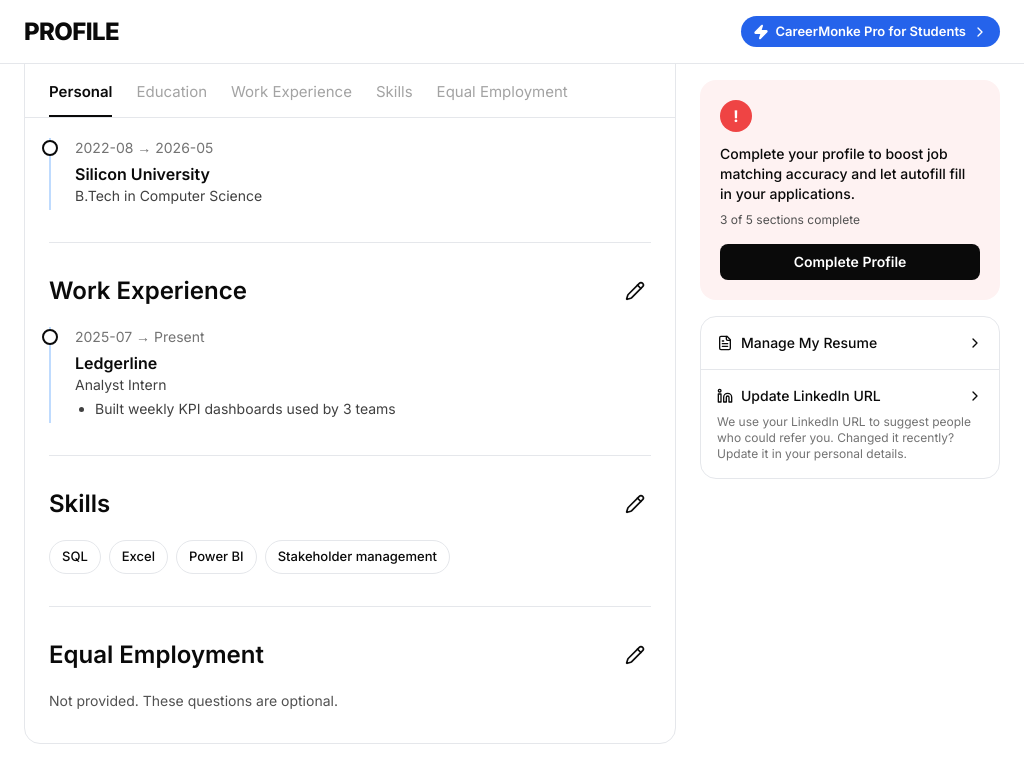
Test: Profile › closing with unsaved changes asks, and Discard throws the draft away
The width and height of the screenshot is (1024, 768).
(page scrolled)
Click the button named "Edit Skills". click: (635, 504)
box: [619,488,651,520]
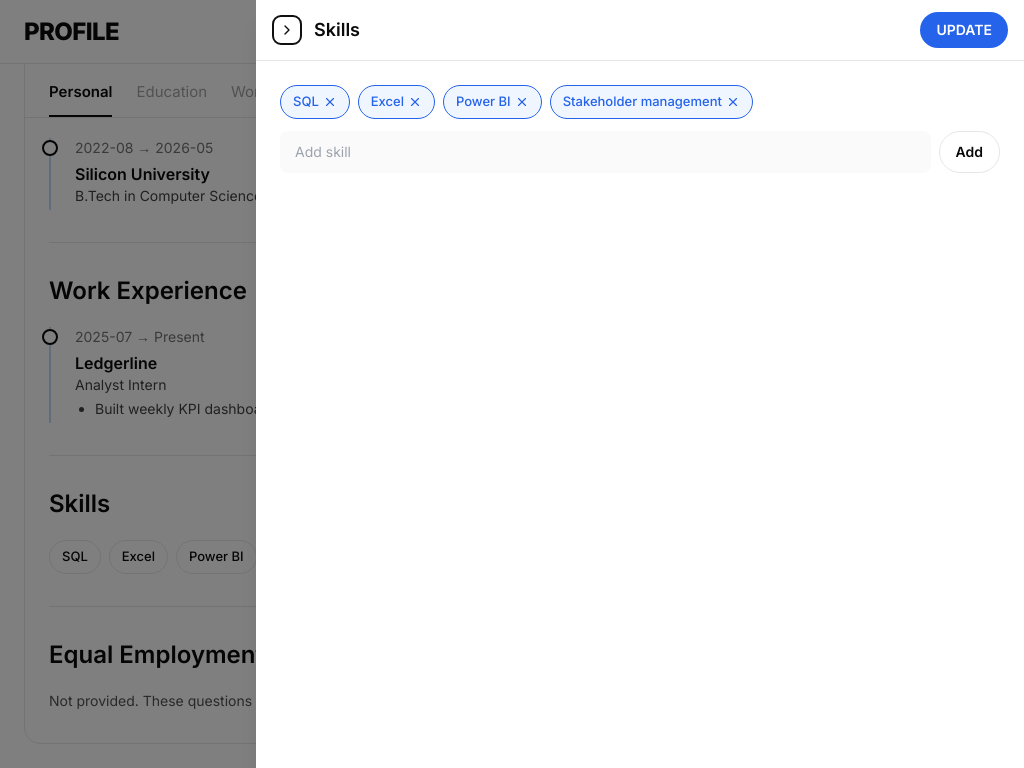
Click the button named "Remove SQL". click: (330, 102)
box: [323,95,337,109]
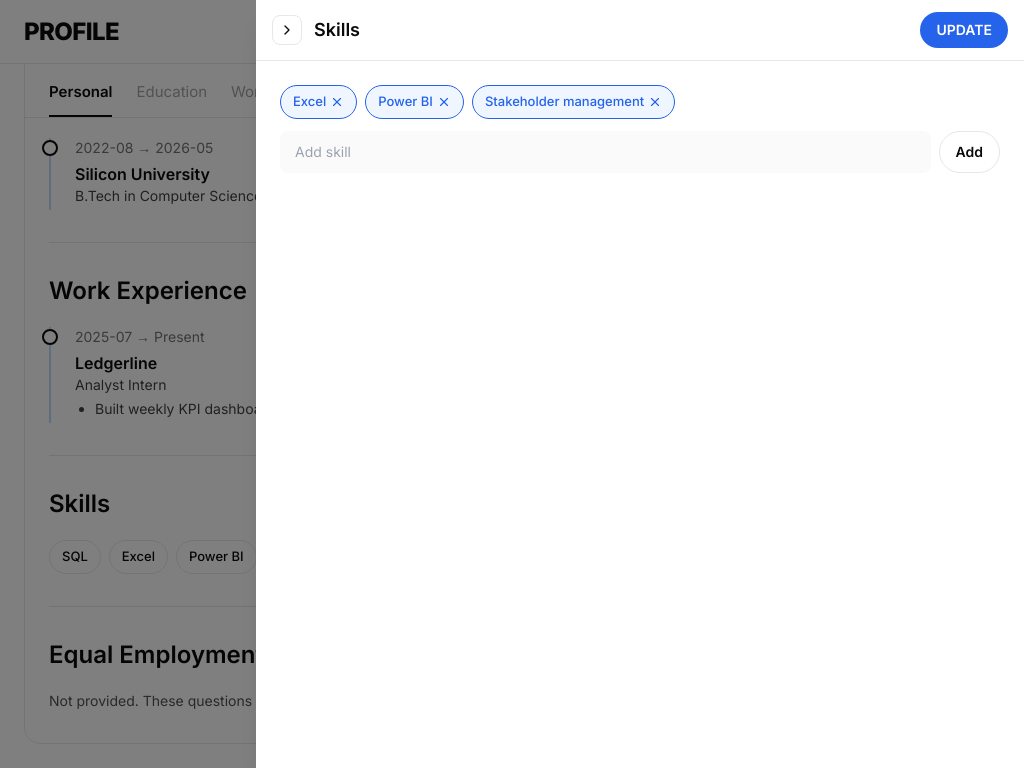
Click the button named "Close". click: (287, 30)
box: [272,15,302,45]
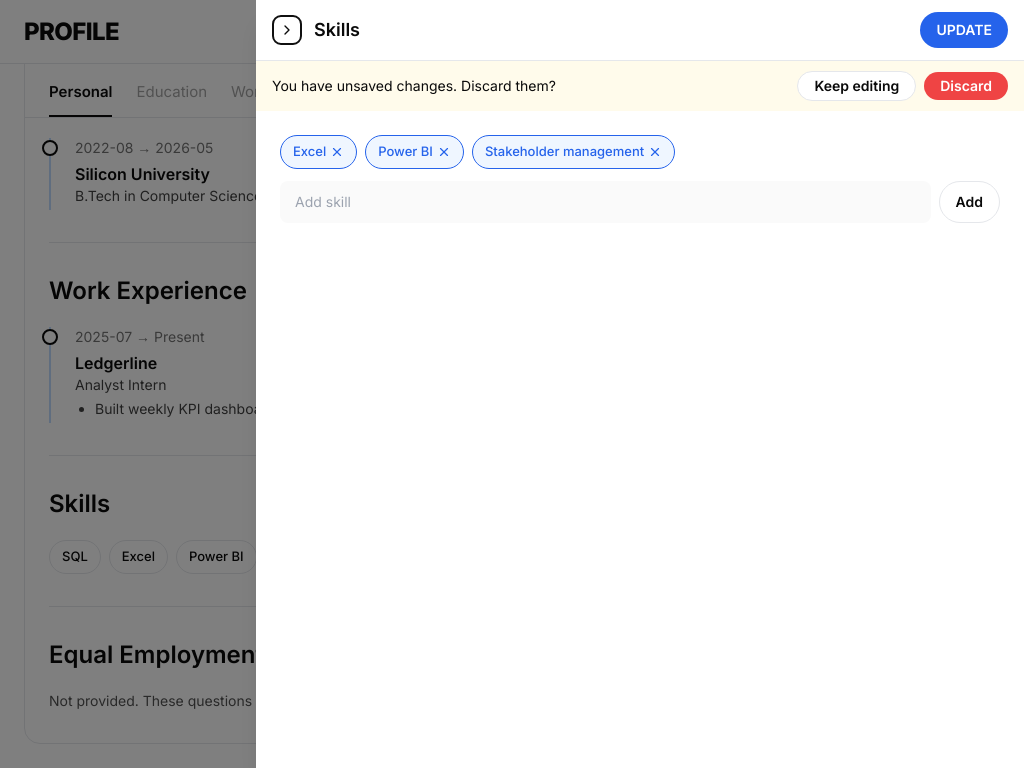
Check: the dialog "unsaved changes" is shown, box [256,61,1023,111]
Click the button "Discard". click: (966, 86)
box: [924,72,1008,100]
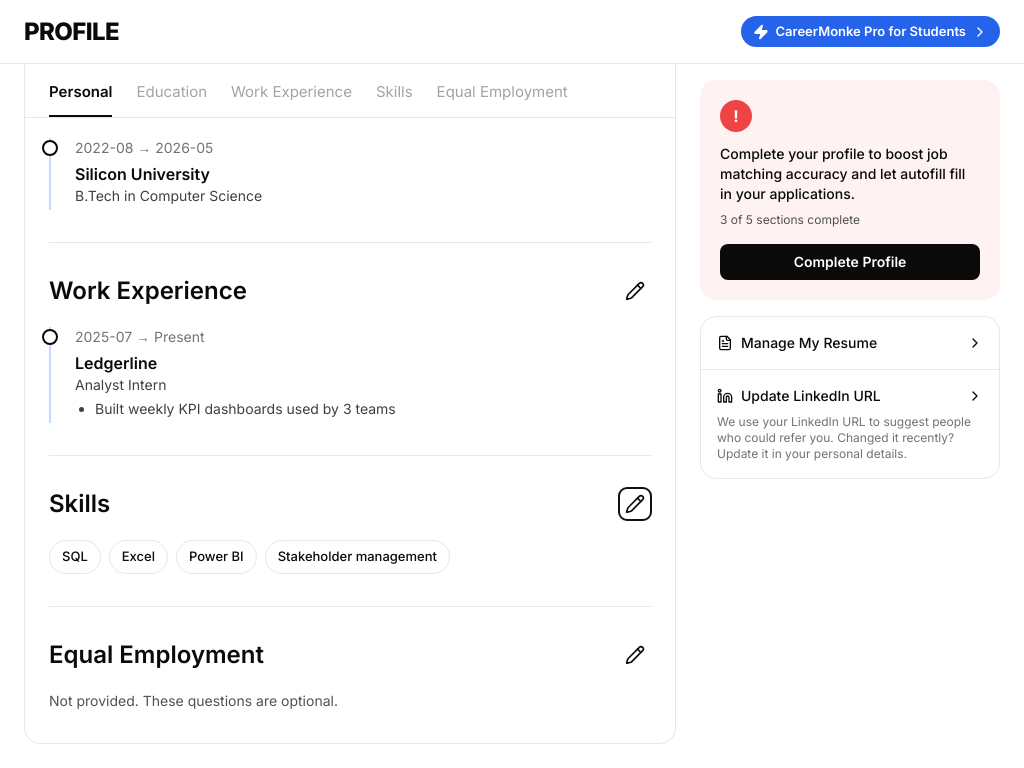
Check: the text "SQL" is shown, box [49,540,101,574]
Check: the dialog is gone
